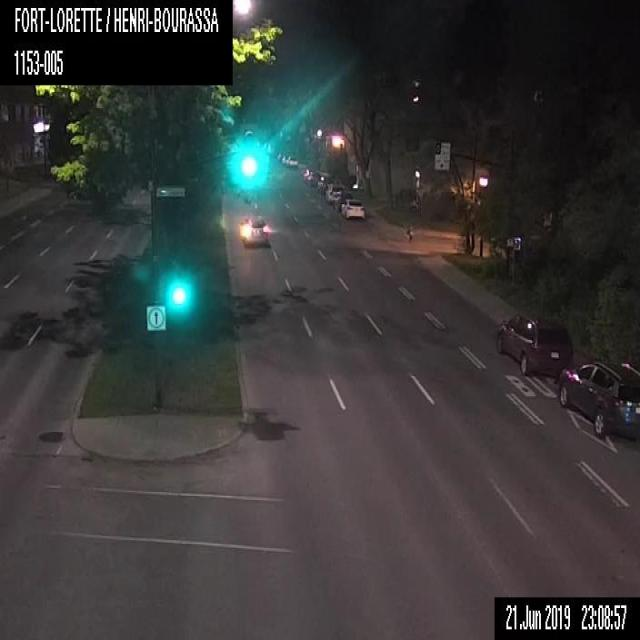pedestrian: (406, 216, 414, 244)
vehicle: (558, 359, 639, 441), (496, 311, 574, 376), (237, 215, 270, 249), (340, 199, 365, 220), (334, 191, 354, 211), (317, 174, 335, 193), (326, 183, 344, 202), (306, 170, 319, 185), (286, 155, 298, 169), (302, 167, 312, 179), (282, 154, 291, 165)
